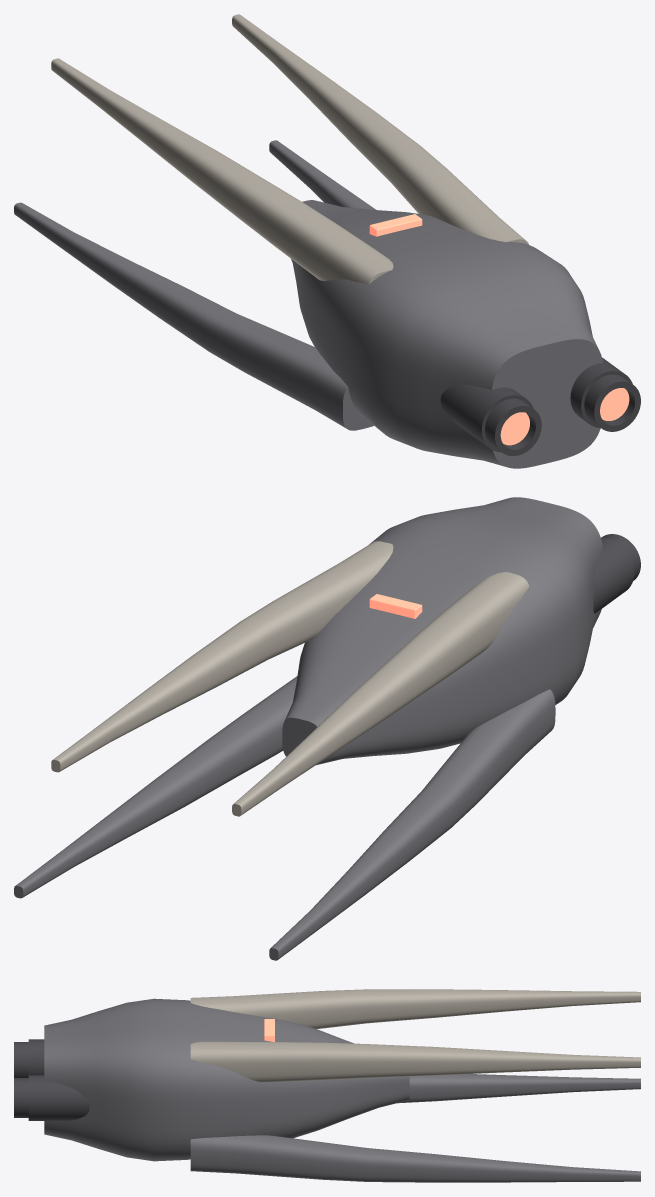
File: falcon.glb
3 views of the same model, one above another, from view 1: azimuth 30°, elevation 25°; view 2: azimuth 150°, elevation 25°; view 3: azimuth 270°, elevation 25° (orthographic). The views are drawn at different scales.
Visible parts, largest first — view 1: falcon_hull; view 2: falcon_hull; view 3: falcon_hull.
Boxes of the visible parts, x1,y1,x2,y2 form: falcon_hull: [14, 14, 640, 468]; falcon_hull: [14, 497, 640, 960]; falcon_hull: [14, 989, 640, 1182].
Size of the model in its own units: 85.79 by 50.6 by 237.
